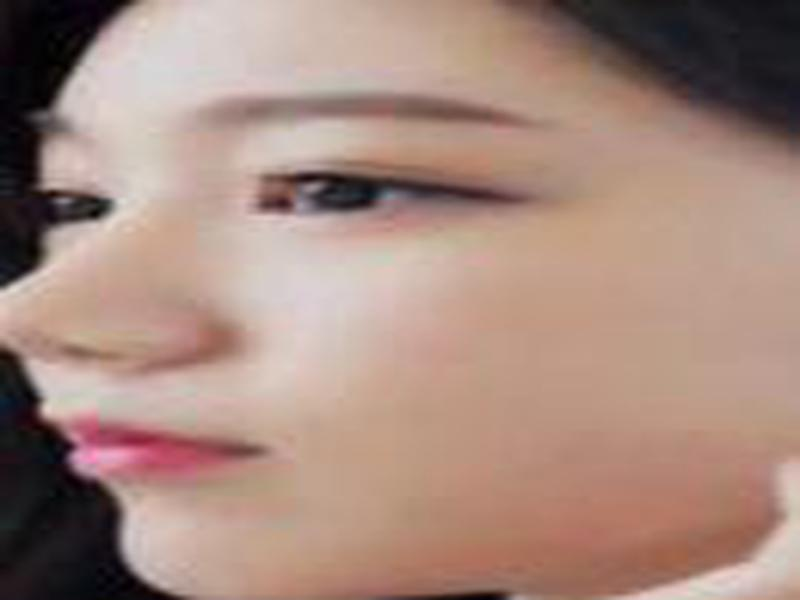without_mask: (6, 8, 800, 600)
